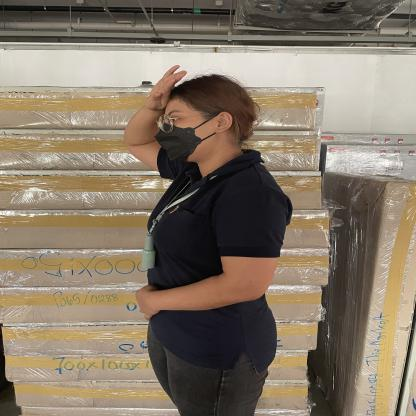Sick: (104, 53, 225, 134)
